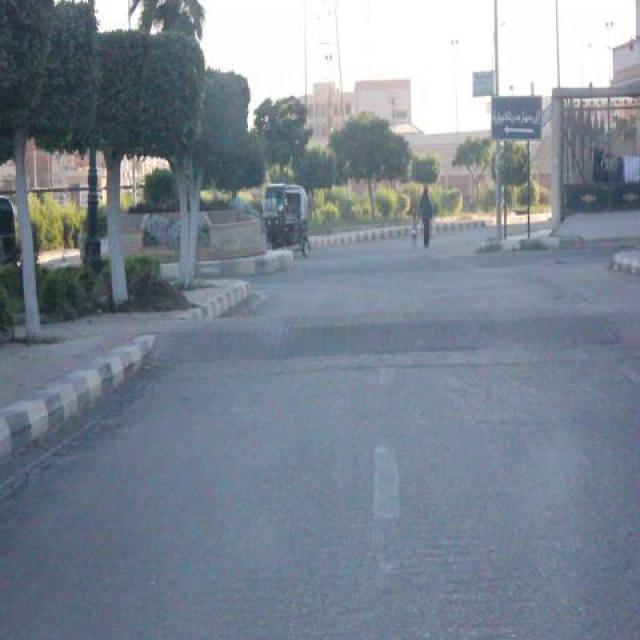Unmarked Bump: (157, 313, 639, 364)
